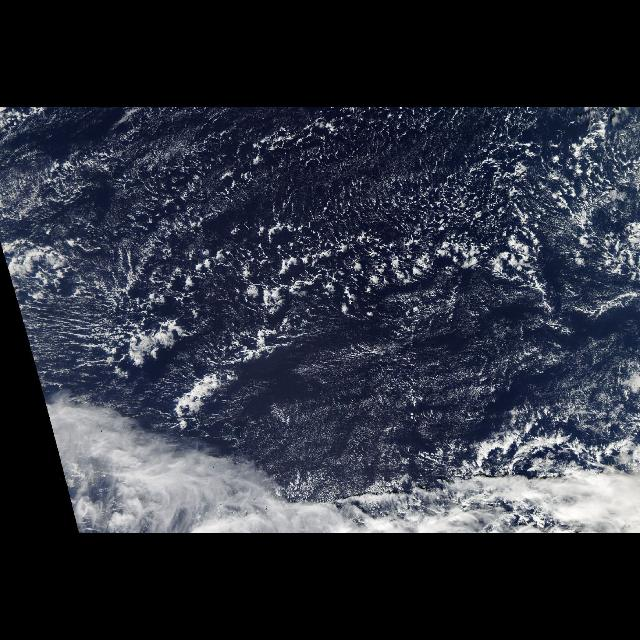Gravel: (75, 107, 640, 367)
Sugar: (260, 298, 634, 464)
